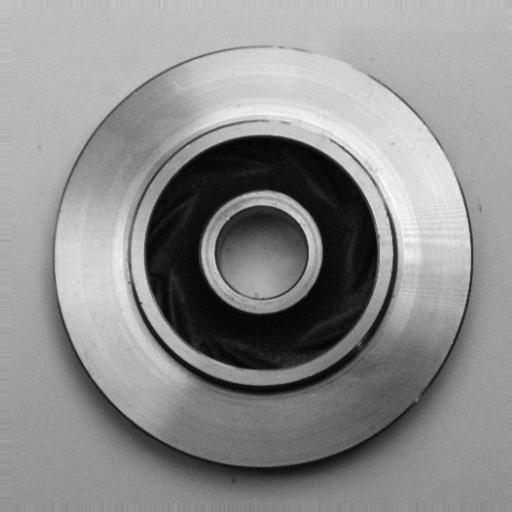scratch: (257, 101, 352, 154)
unpolished_casting: (45, 43, 473, 473)
